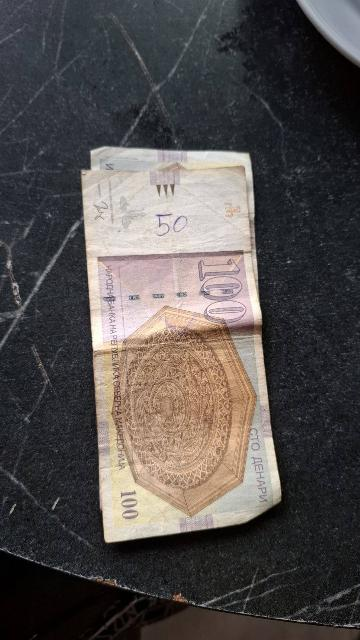100_note: (83, 164, 280, 541)
